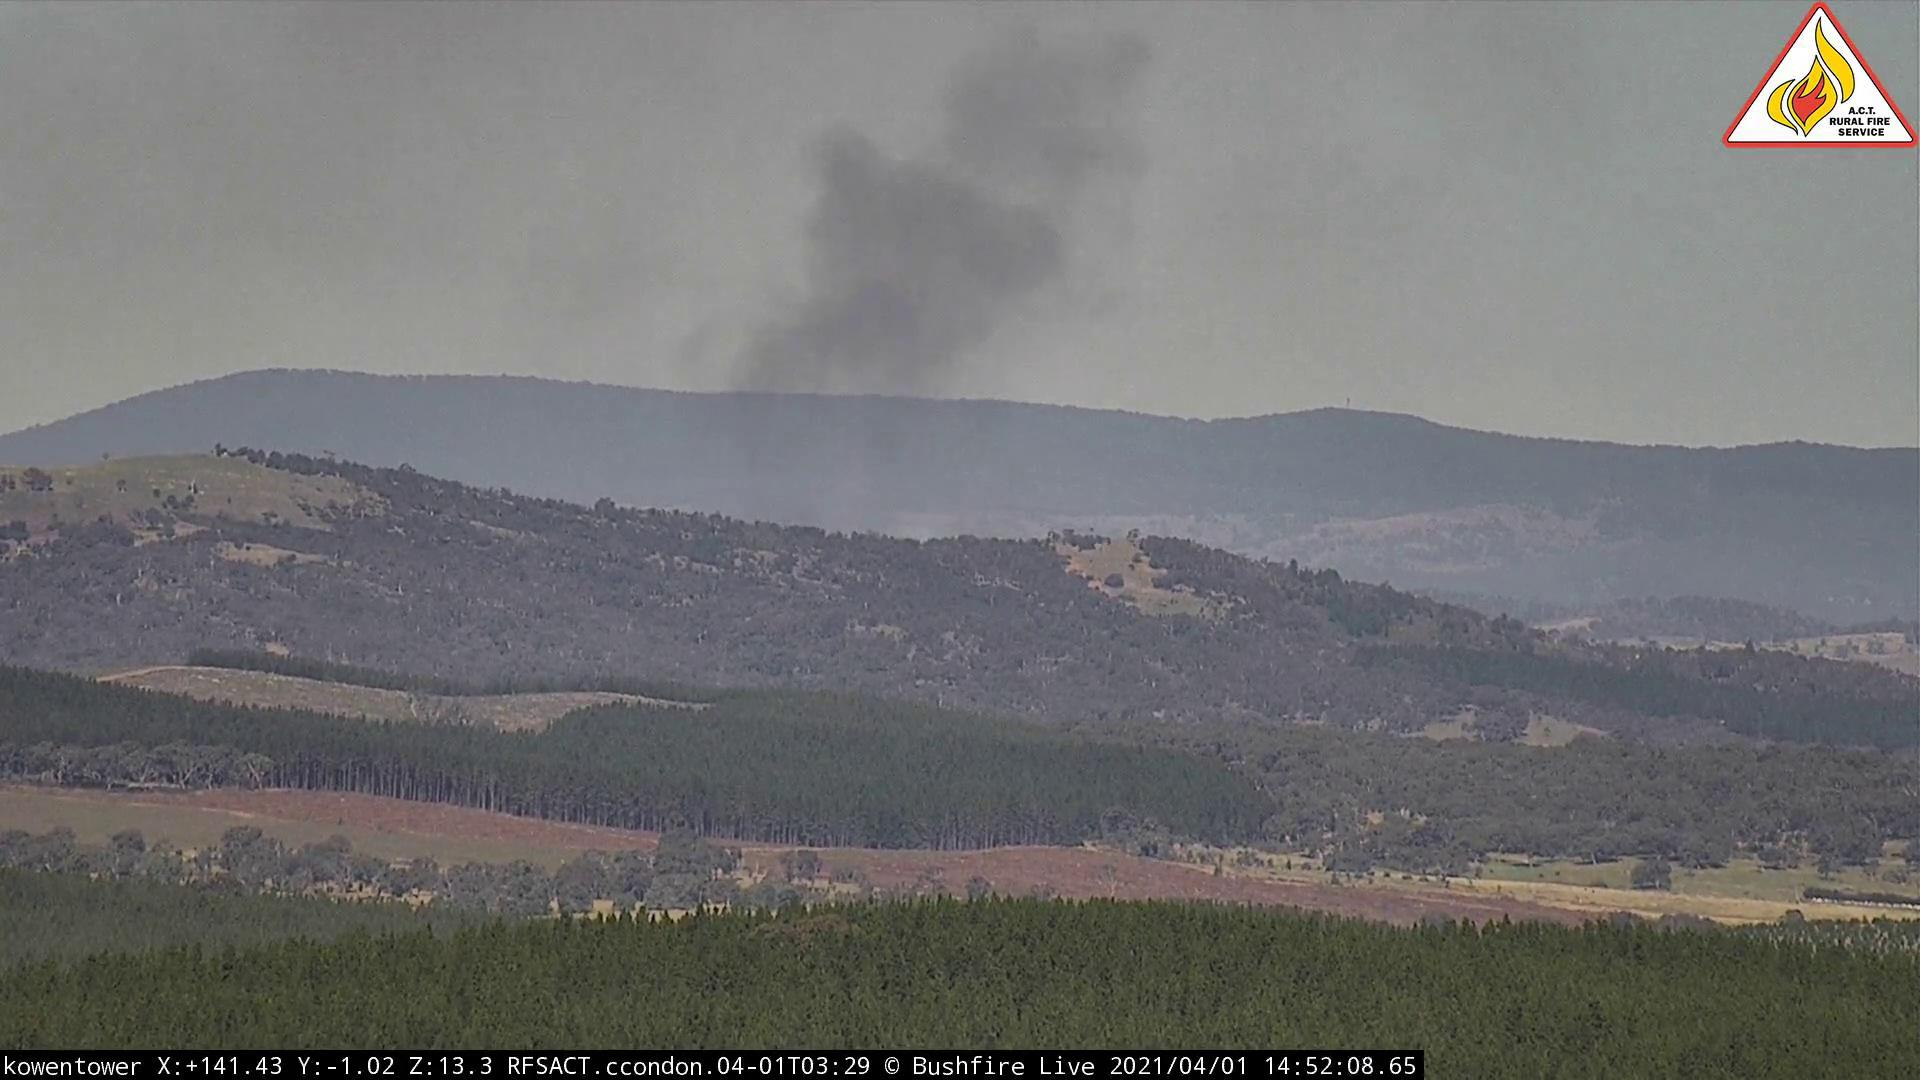instance_salient_object: (553, 3, 1188, 539)
